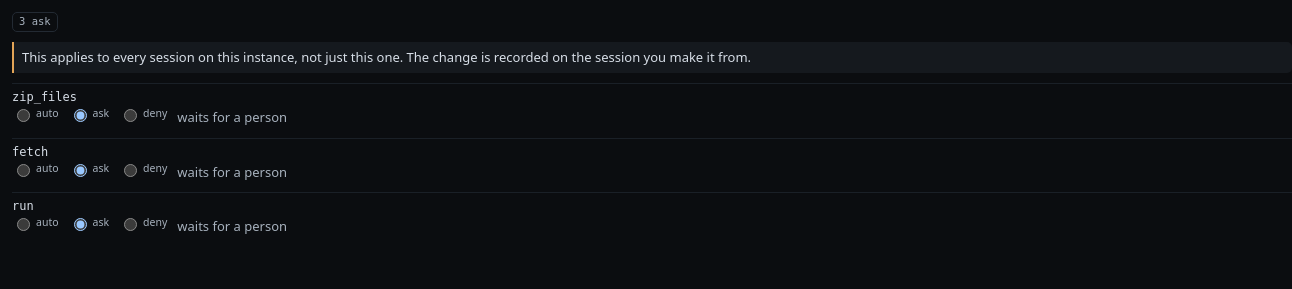
Test case: renders the server’s own rejection message verbatim
The width and height of the screenshot is (1292, 289).
Step 1. Click the radio button labelled "deny" below "fetch" → x=131, y=170, box [124,164,137,177]
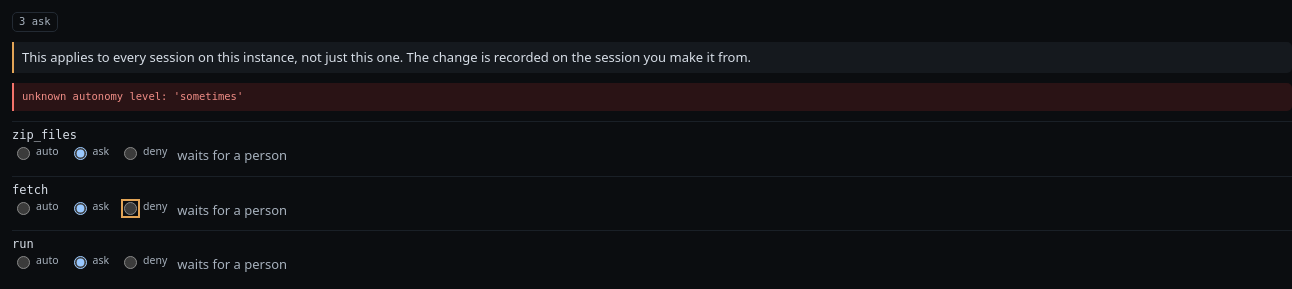
Result: the message reads "unknown autonomy level: 'sometimes'" at [22,90,243,102]
